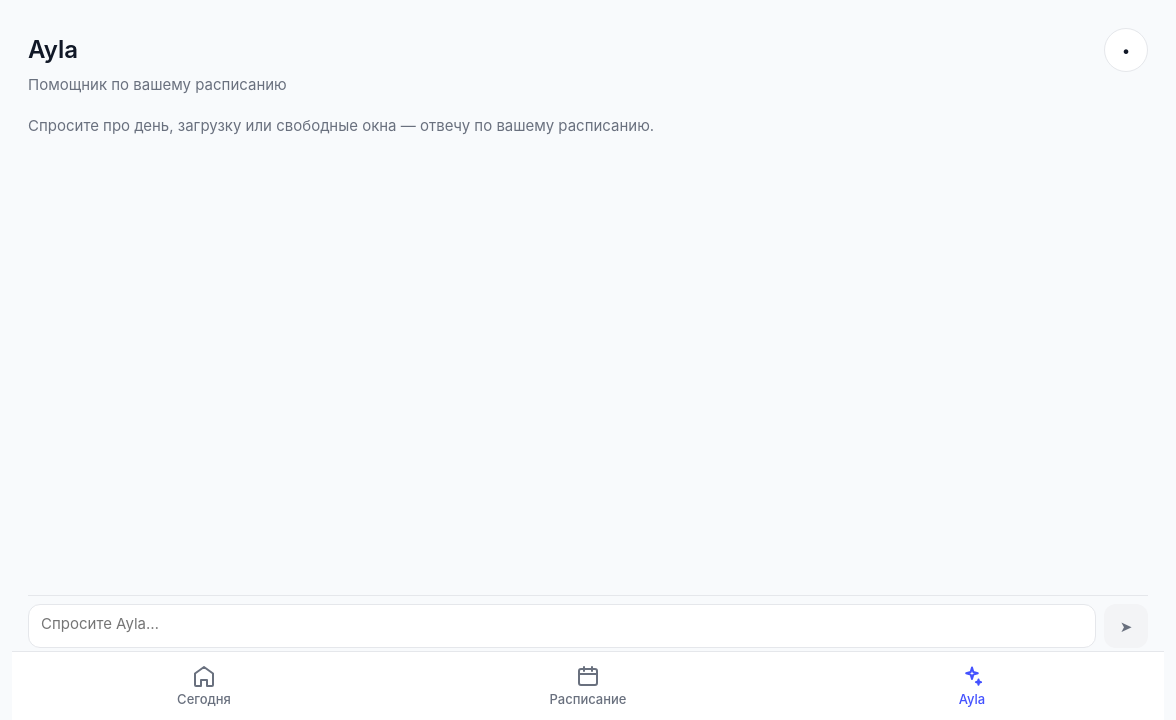
it: MasterAylaScreen · диалог › ошибка сервера не съедает экран
Expected: the text "Спросите про день" is shown, left=28, top=116, right=654, bottom=135
Step 1. Type "что у меня завтра" into the text box named "Вопрос к Ayla" → {"x": 562, "y": 626}, box left=28, top=604, right=1096, bottom=648
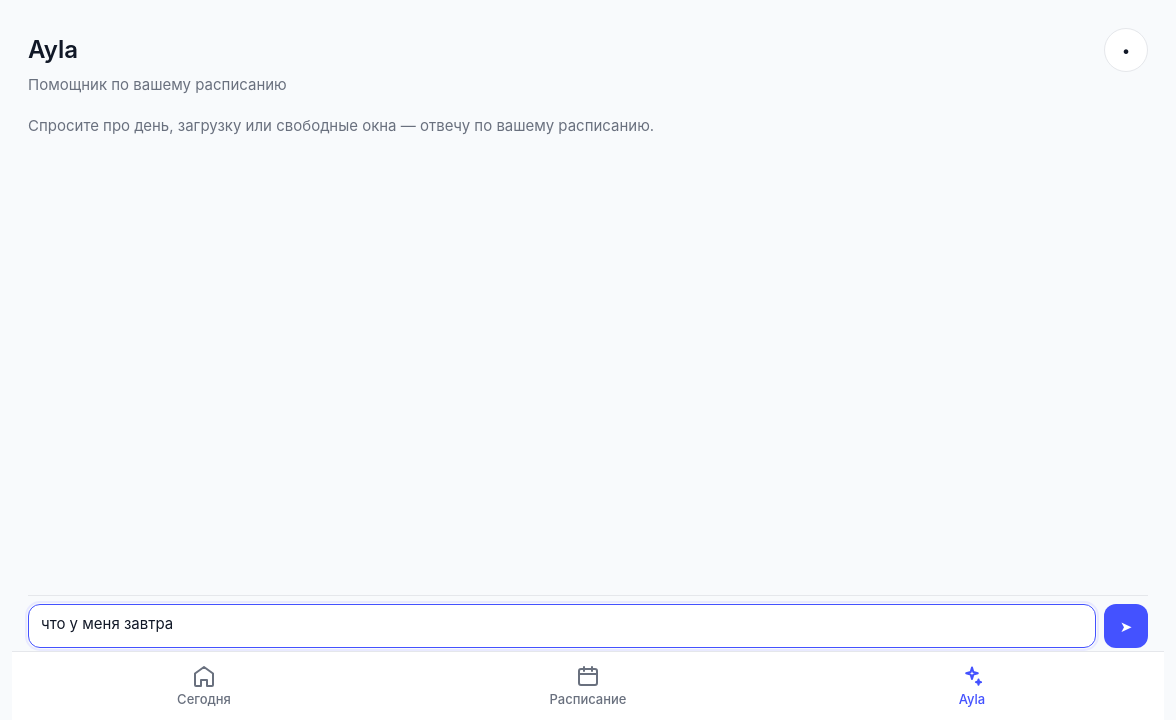
Step 2. Click the button named "Отправить" → {"x": 1126, "y": 626}, box left=1104, top=604, right=1148, bottom=648
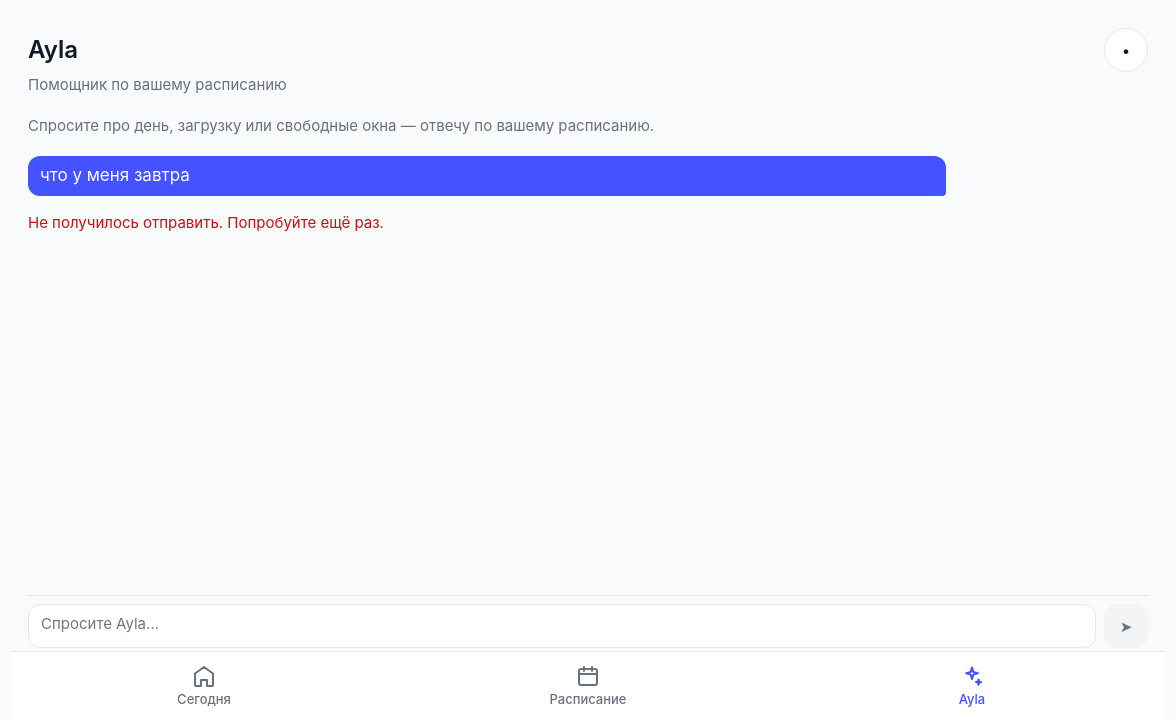
Now the message shows "Не получилось отправить", box left=28, top=213, right=384, bottom=232
